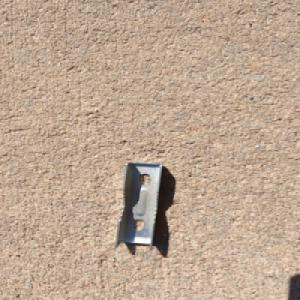ClampPart: (112, 160, 165, 252)
